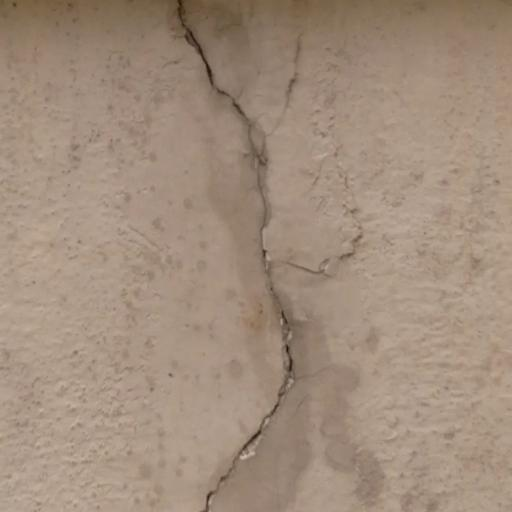major_crack: (139, 0, 376, 512)
